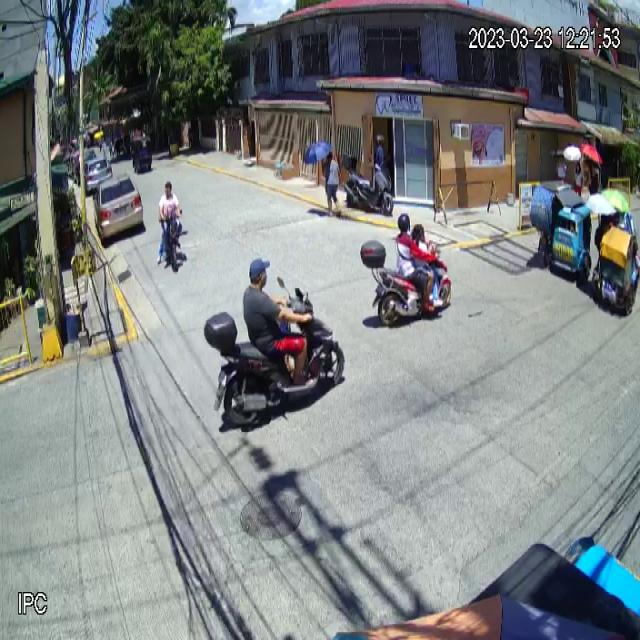Motorcycle: (203, 275, 345, 426), (360, 238, 452, 328)
Tricycle: (531, 178, 594, 278)
